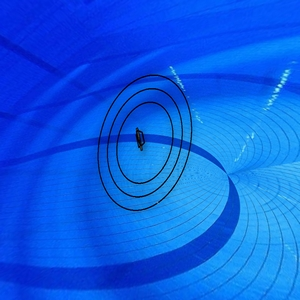circle: (93, 71, 196, 215)
submarine: (132, 126, 157, 152)
